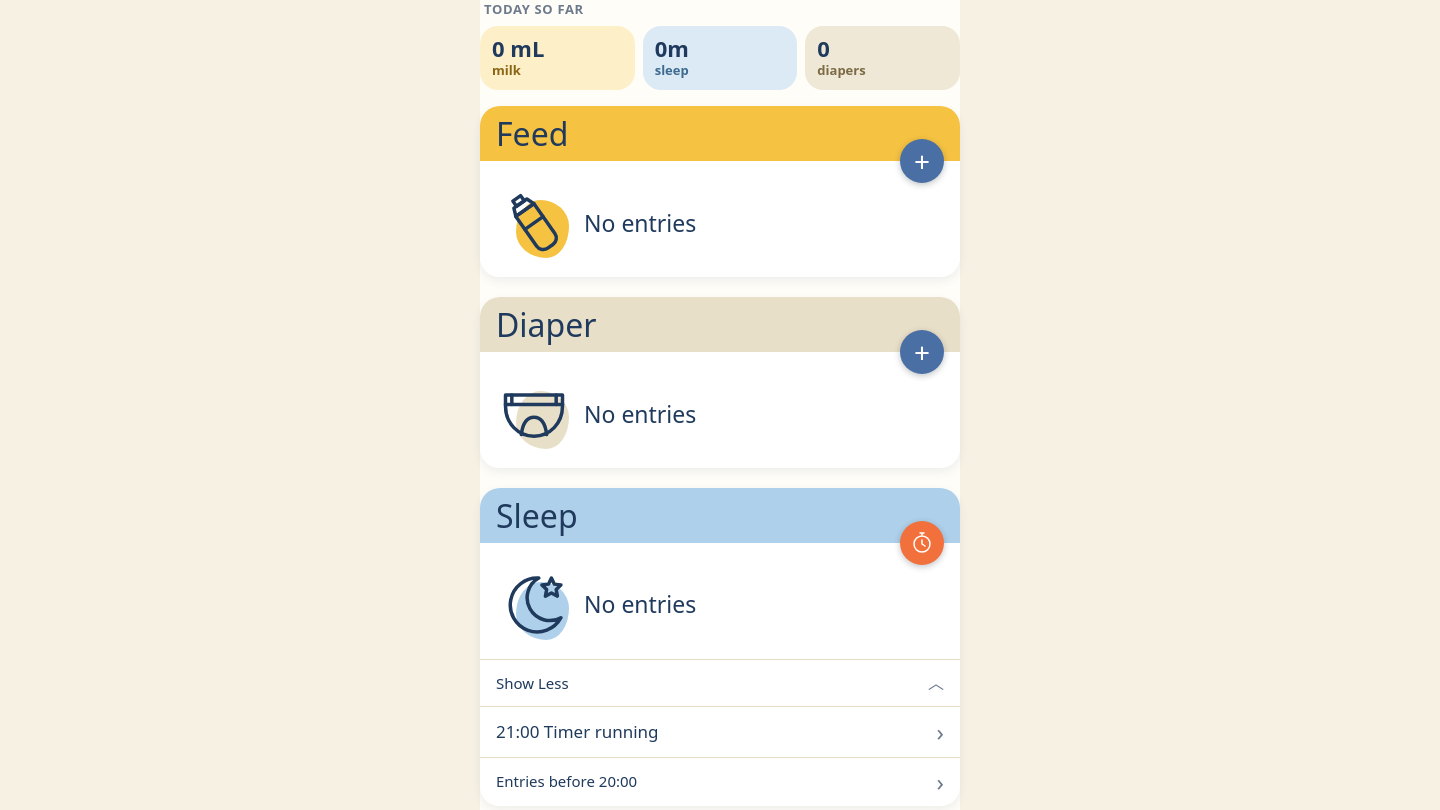
Scenario: ActivityPage › opens the sleep modal directly in live mode when one is already active
Click the button named "View the running timer": [922, 543] box top-left (900, 521), bottom-right (944, 565)
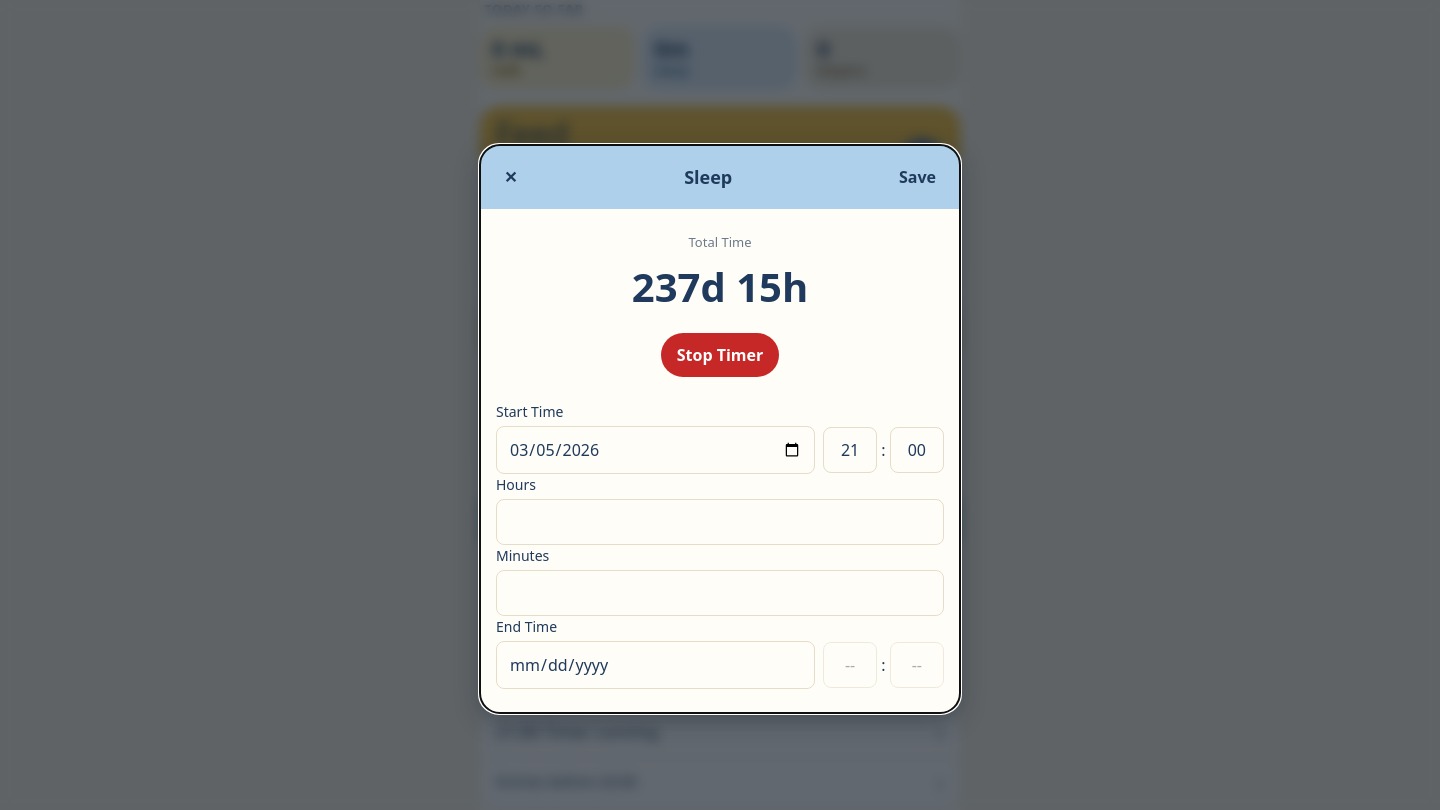
Expected: the dialog "Sleep" is shown, top-left (480, 145), bottom-right (960, 713)
